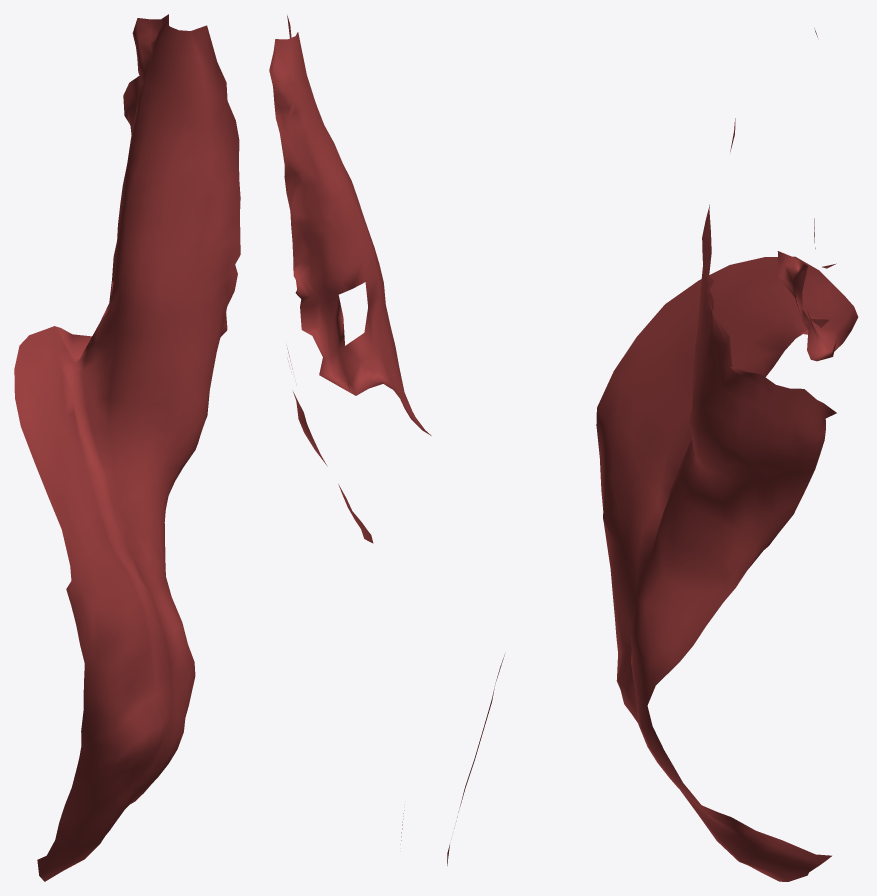
The model's file is iliopsoas-fascia-r.glb.
The picture shows the model from 3 angles, left to right: view 1: azimuth 30°, elevation 25°; view 2: azimuth 150°, elevation 25°; view 3: azimuth 270°, elevation 25°; orthographic projection. The views are drawn at different scales.
Visible parts, largest first — view 1: Iliopsoas fascia.r; view 2: Iliopsoas fascia.r; view 3: Iliopsoas fascia.r.
Part boxes in pixels (x1=…): Iliopsoas fascia.r: x1=14, y1=14, x2=240, y2=881; Iliopsoas fascia.r: x1=269, y1=15, x2=504, y2=865; Iliopsoas fascia.r: x1=596, y1=28, x2=858, y2=881.
Size of the model in its own units: 0.0971 by 0.337 by 0.0857.
